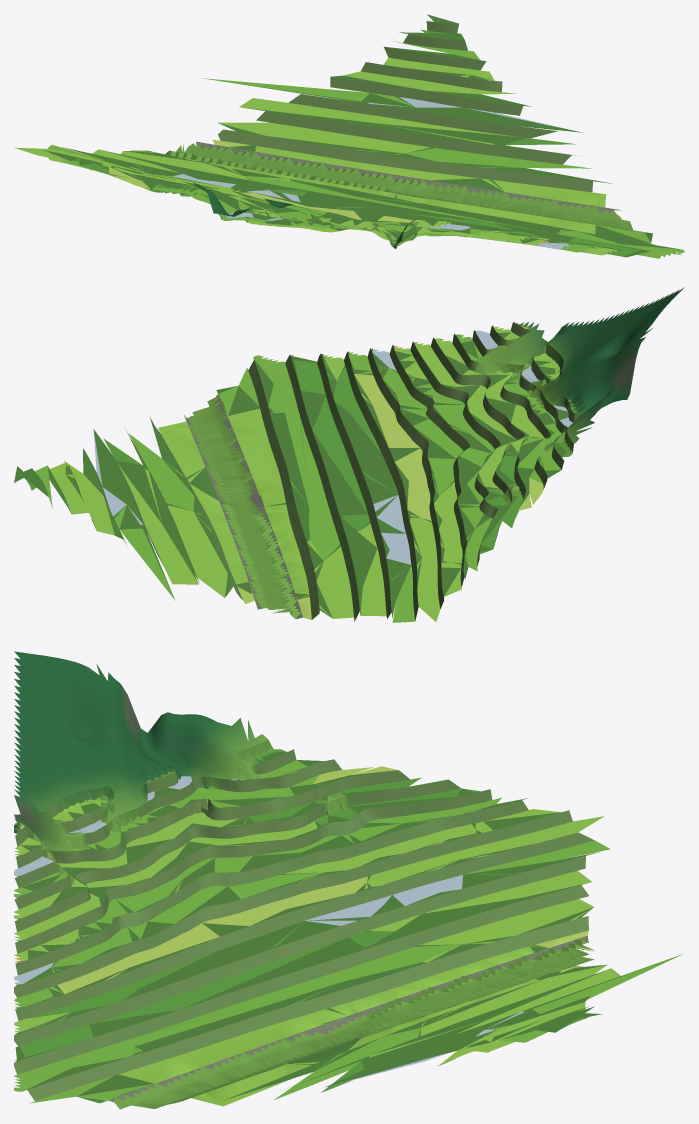
Rendered from payo_land_xm1_y4.glb.
3 renders of one model, top to bottom at view 1: azimuth 30°, elevation 25°; view 2: azimuth 150°, elevation 25°; view 3: azimuth 270°, elevation 25°, orthographic. The views are drawn at different scales.
Visible parts, largest first — view 1: payo_land_xm1_y4; view 2: payo_land_xm1_y4; view 3: payo_land_xm1_y4.
Boxes of the visible parts, left/top/right/bottom form: payo_land_xm1_y4: left=14, top=14, right=684, bottom=258; payo_land_xm1_y4: left=14, top=287, right=684, bottom=622; payo_land_xm1_y4: left=14, top=651, right=682, bottom=1109.
Bounding box in the file's own units: 279 × 106 × 301.
